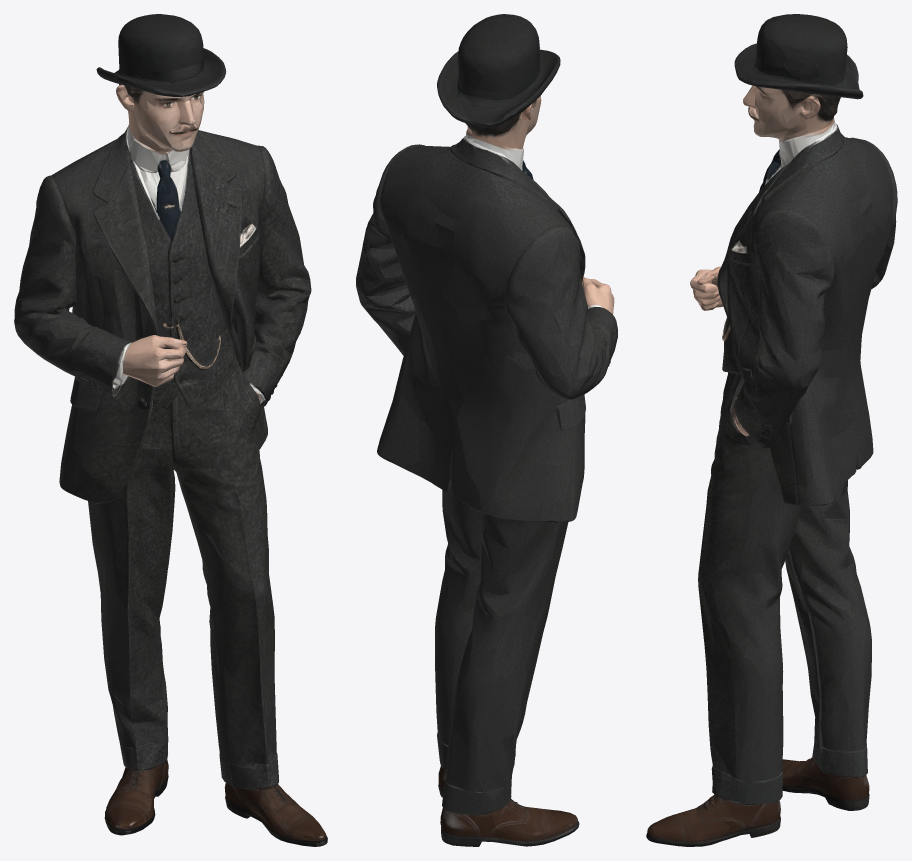
The model's file is cast_upper_man.glb.
3 views of the same model, side by side, from view 1: azimuth 30°, elevation 25°; view 2: azimuth 150°, elevation 25°; view 3: azimuth 270°, elevation 25° (orthographic). The views are drawn at different scales.
Parts seen in each view (by area): view 1: CastUpperManMesh; view 2: CastUpperManMesh; view 3: CastUpperManMesh.
Boxes of the visible parts, box(x1,y1,x2,y2) form: CastUpperManMesh: box(14, 14, 327, 846); CastUpperManMesh: box(356, 14, 617, 846); CastUpperManMesh: box(646, 14, 897, 846).
Bounding box in the file's own units: 0.6532 × 1.9 × 0.5545.
1 material, 1 textured.
